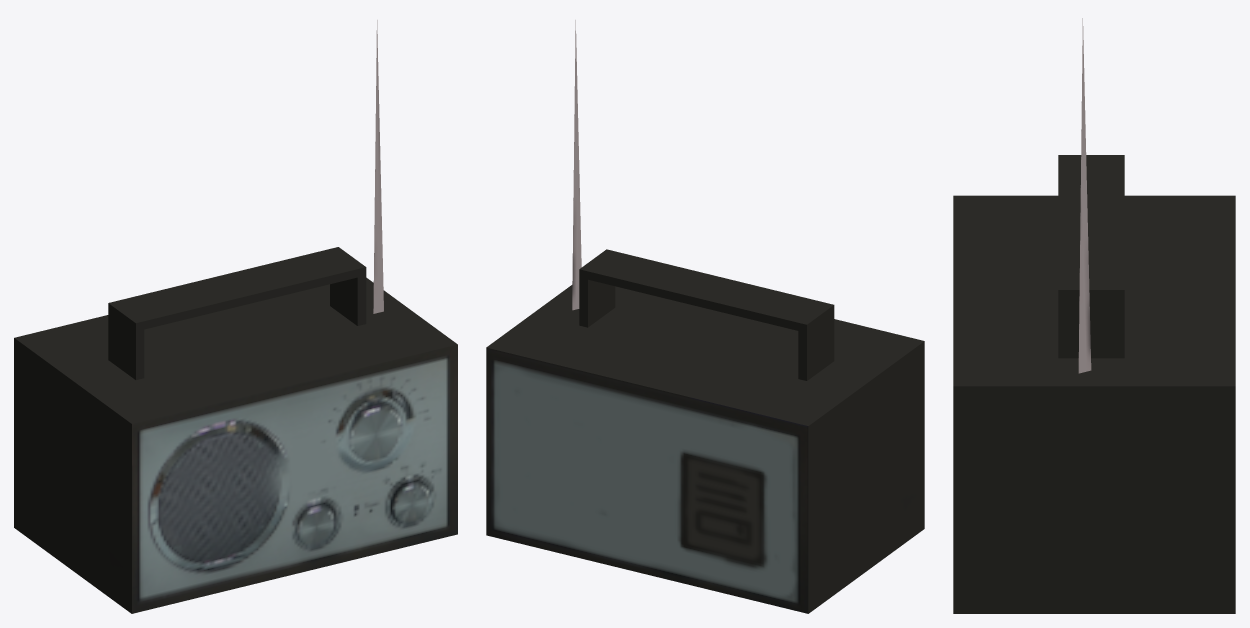
Rendered from Radio_02-col.glb.
3 renders of one model, left to right at view 1: azimuth 30°, elevation 25°; view 2: azimuth 150°, elevation 25°; view 3: azimuth 270°, elevation 25°, orthographic. The views are drawn at different scales.
Visible parts, largest first — view 1: Radio_02-col; view 2: Radio_02-col; view 3: Radio_02-col.
Part boxes in pixels (x1,y1,x2,y2): Radio_02-col: [14, 20, 457, 613]; Radio_02-col: [486, 20, 924, 613]; Radio_02-col: [953, 18, 1235, 613].
Size of the model in its own units: 1.02 by 1.46 by 0.6408.
1 material, 1 textured.
